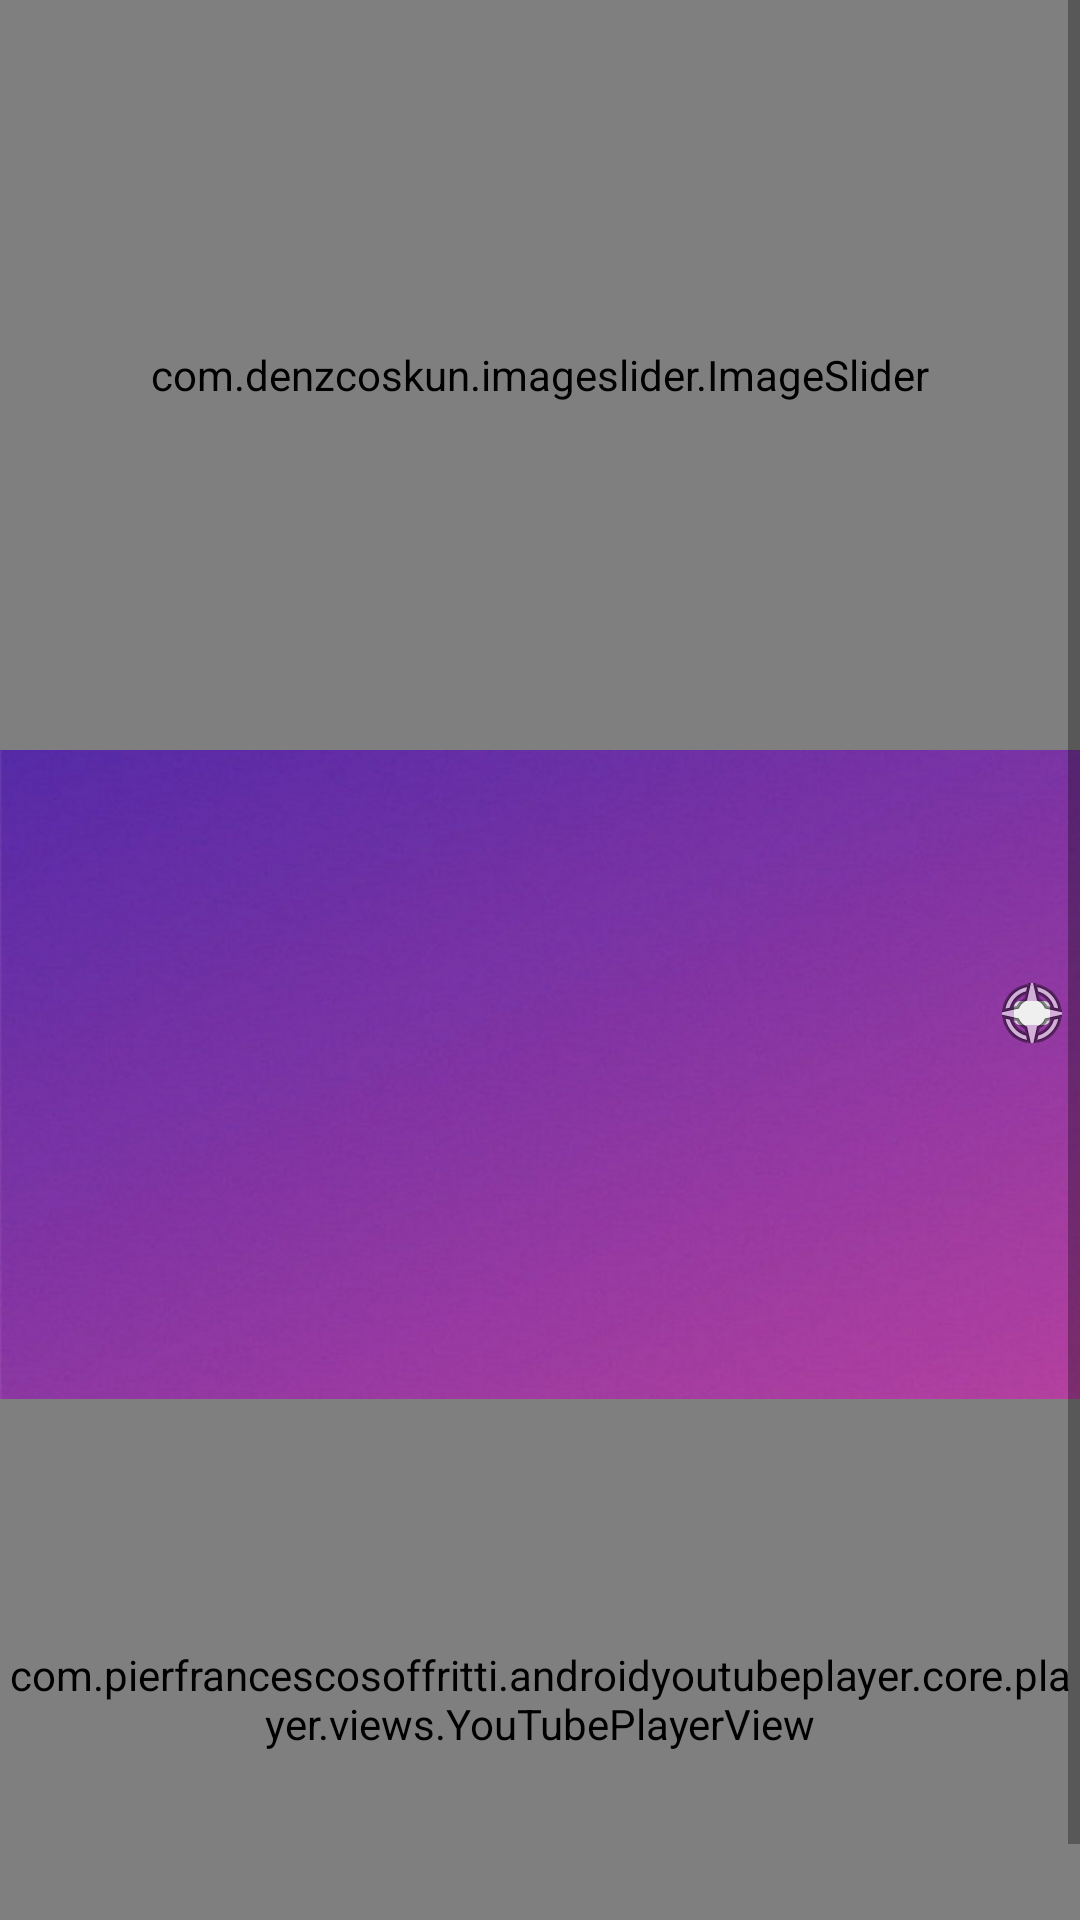

Named icons in this screenshot (1080*1920) and their centers, (x=x, y=y):
compass: (x=1032, y=1013)
